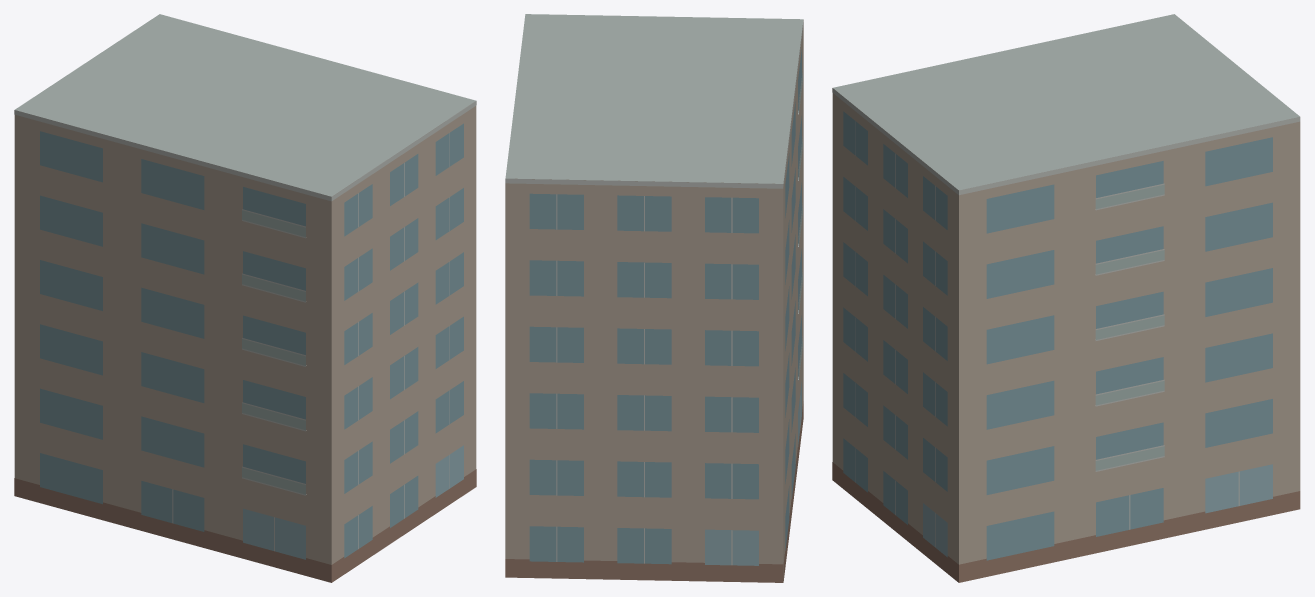
The model's file is survey-upis-32965114.glb.
3 views of the same model, side by side, from view 1: azimuth 30°, elevation 25°; view 2: azimuth 150°, elevation 25°; view 3: azimuth 270°, elevation 25° (orthographic). The views are drawn at different scales.
Parts seen in each view (by area): view 1: survey-upis-32965114.tmp; view 2: survey-upis-32965114.tmp; view 3: survey-upis-32965114.tmp.
Part boxes in pixels (left/top/right/bottom): survey-upis-32965114.tmp: left=14, top=14, right=476, bottom=582; survey-upis-32965114.tmp: left=505, top=14, right=803, bottom=582; survey-upis-32965114.tmp: left=832, top=14, right=1300, bottom=582.
Size of the model in its own units: 19.35 by 20.05 by 21.67.
